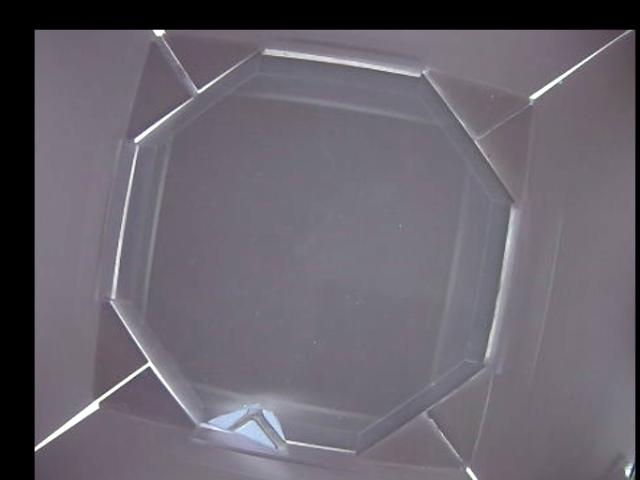China: (197, 405, 285, 451)
